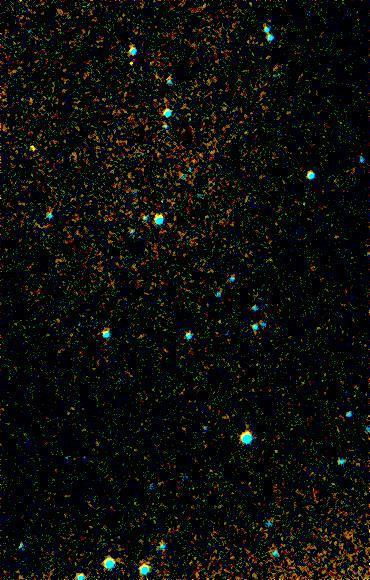star: (18, 134, 48, 164)
